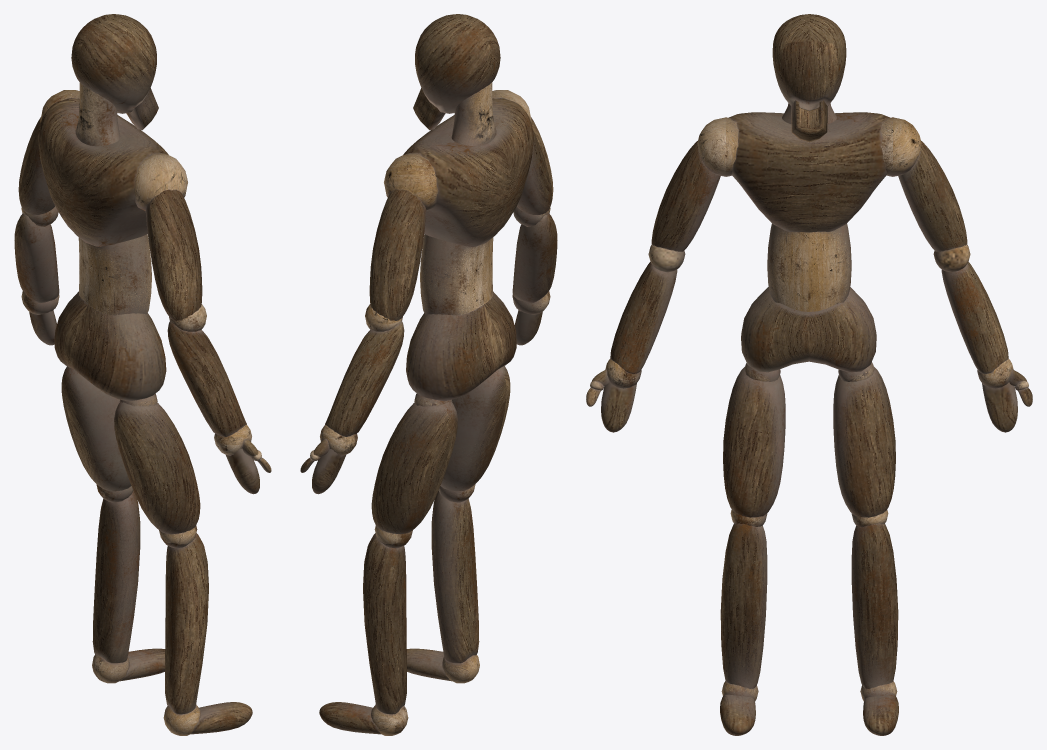
The model's file is manequin (2).fbx.
The picture shows the model from 3 angles, left to right: view 1: azimuth 30°, elevation 25°; view 2: azimuth 150°, elevation 25°; view 3: azimuth 270°, elevation 25°; orthographic projection. The views are drawn at different scales.
Parts seen in each view (by area): view 1: manequim, perna, braco, boca; view 2: manequim, perna, braco, boca; view 3: manequim, perna, braco, boca.
Part boxes in pixels (<box>): manequim: <box>14,14,252,735</box>; perna: <box>61,366,164,683</box>; braco: <box>145,189,271,494</box>; boca: <box>126,88,158,130</box>; manequim: <box>300,14,533,683</box>; perna: <box>319,402,457,735</box>; braco: <box>512,117,557,345</box>; boca: <box>413,88,445,130</box>; manequim: <box>697,14,1032,735</box>; perna: <box>833,367,898,735</box>; braco: <box>586,141,720,432</box>; boca: <box>791,100,827,142</box>.
Bounding box in the file's own units: 42.47 × 185 × 111.
